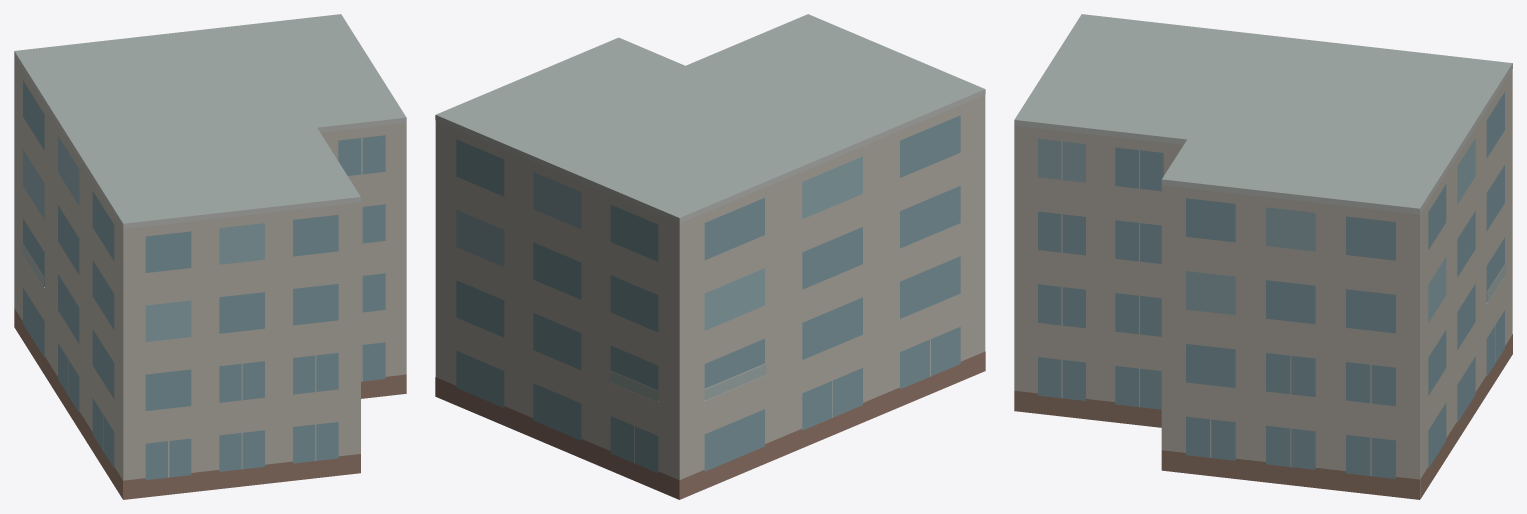
File: residential-eba3c77b-5b32-49e0-ad60-7e791450ce6e.glb
3 renders of one model, left to right at view 1: azimuth 30°, elevation 25°; view 2: azimuth 150°, elevation 25°; view 3: azimuth 270°, elevation 25°, orthographic. The views are drawn at different scales.
Visible parts, largest first — view 1: residential-eba3c77b-5b32-49e0-ad60-7e791450ce6e.tmp; view 2: residential-eba3c77b-5b32-49e0-ad60-7e791450ce6e.tmp; view 3: residential-eba3c77b-5b32-49e0-ad60-7e791450ce6e.tmp.
Boxes of the visible parts, x1,y1,x2,y2 form: residential-eba3c77b-5b32-49e0-ad60-7e791450ce6e.tmp: [14, 14, 406, 499]; residential-eba3c77b-5b32-49e0-ad60-7e791450ce6e.tmp: [435, 14, 985, 499]; residential-eba3c77b-5b32-49e0-ad60-7e791450ce6e.tmp: [1014, 14, 1512, 499].
Bounding box in the file's own units: 17.5 × 12.2 × 18.94.
